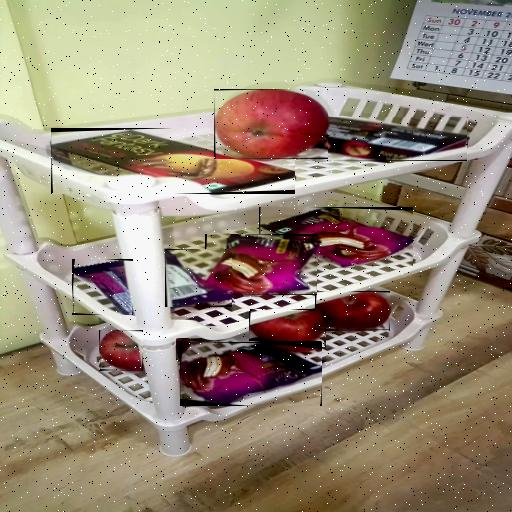Apple: (215, 89, 328, 159), (317, 292, 390, 330), (250, 311, 325, 346), (100, 331, 142, 370), (176, 339, 188, 359)
Choco Fills: (51, 130, 295, 193), (315, 117, 467, 161)
Choco Pie: (260, 208, 413, 266), (180, 345, 322, 404), (206, 234, 317, 295), (165, 251, 232, 307), (74, 260, 132, 315)
